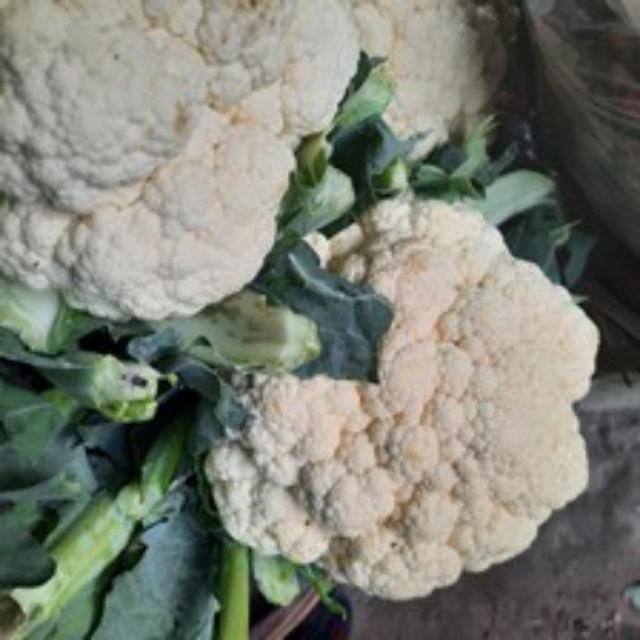cauliflower: (201, 212, 601, 606), (2, 0, 384, 330)
